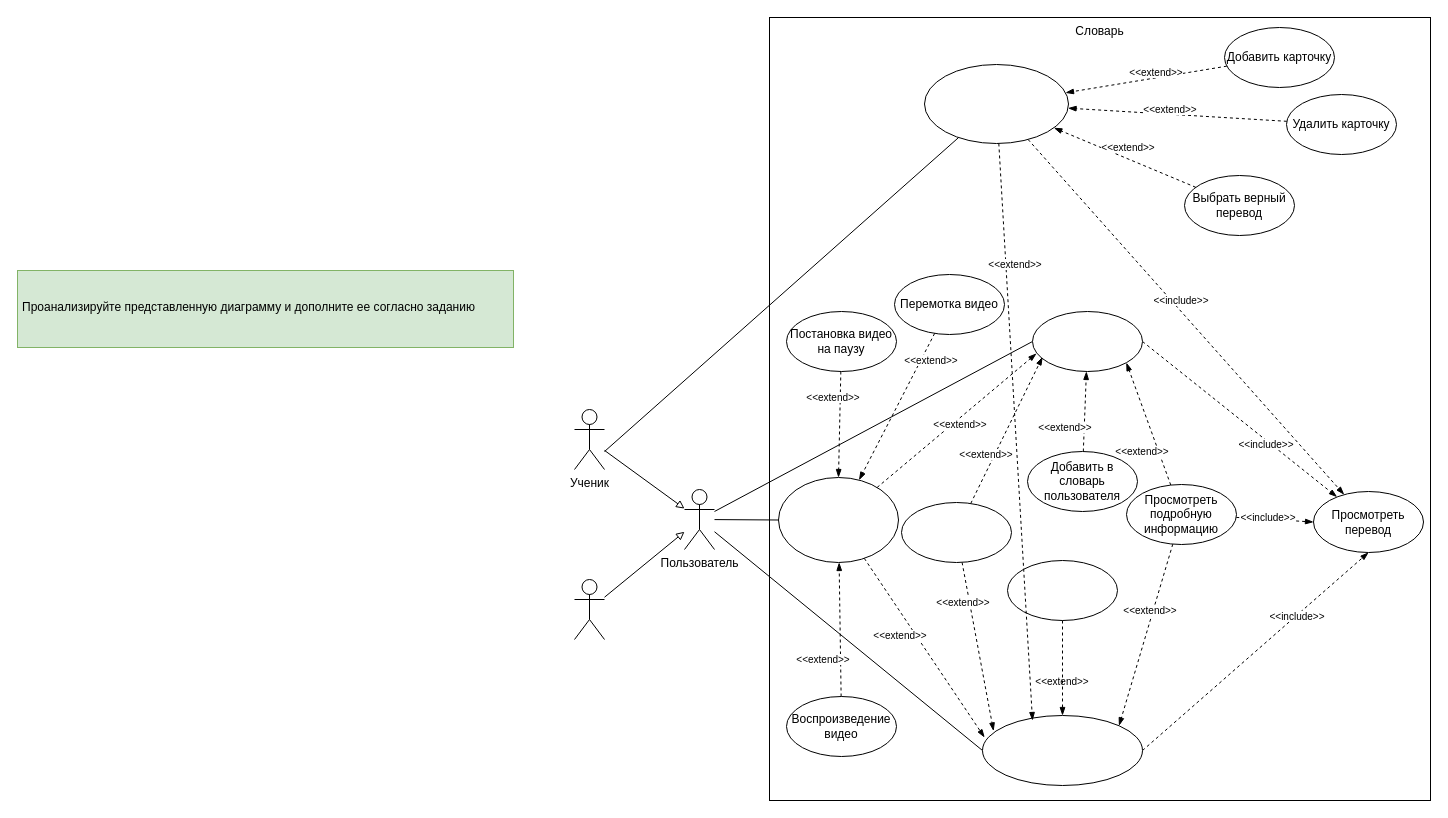
Image size: 1448x818. Some labels were removed from this diagram. Here are the shapes that lost their labels. From the top down, the centre of each, then its label:
point 996,104: Открыть карточку для проверки знаний
point 1087,341: Найти слово в словаре
point 838,519: Просмотреть видео с вариантами произношения слова
point 956,532: Прослушать озвучку произношения
point 589,609: Преподаватель
point 1062,590: Удалить слово
point 1062,750: Просмотреть список слов в словаре пользователя
